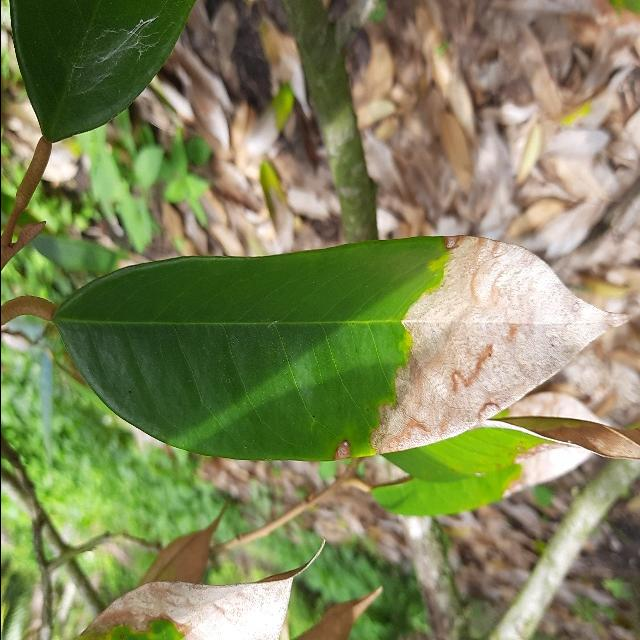Leaf Blight: (37, 225, 639, 470)
